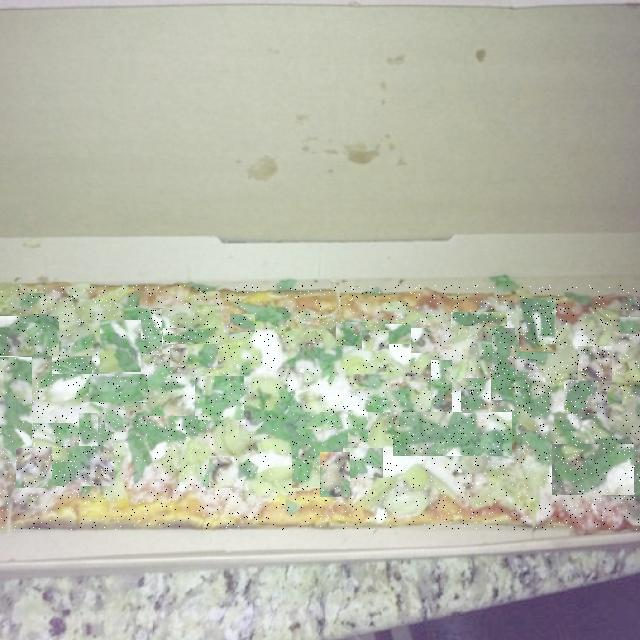Mushrooms: (16, 448, 52, 488), (320, 452, 350, 497), (578, 346, 612, 381), (210, 456, 236, 488), (411, 328, 440, 353), (164, 394, 185, 423), (362, 330, 389, 351), (444, 455, 464, 482), (170, 348, 188, 367), (517, 359, 536, 377)
Pizza: (0, 285, 640, 530)
Rucola: (394, 412, 514, 456), (33, 423, 114, 488), (552, 444, 634, 495), (247, 388, 318, 445), (0, 357, 32, 471), (0, 316, 59, 356), (196, 376, 246, 420), (100, 320, 141, 372), (520, 298, 558, 352), (123, 427, 153, 484), (492, 328, 515, 400), (89, 374, 148, 402), (513, 373, 552, 415), (235, 297, 290, 324), (282, 346, 346, 368), (292, 444, 322, 488), (136, 416, 198, 436), (343, 448, 383, 478), (138, 308, 162, 355), (564, 380, 597, 414), (431, 360, 452, 412), (461, 378, 491, 413), (317, 431, 352, 459), (163, 328, 219, 344), (186, 342, 218, 368), (451, 312, 507, 326), (336, 322, 367, 346), (305, 412, 348, 429), (52, 356, 92, 374), (122, 295, 146, 323), (348, 410, 368, 442), (79, 413, 98, 446), (19, 294, 46, 316), (566, 289, 595, 308), (385, 324, 411, 344), (353, 374, 386, 389), (391, 386, 417, 405), (106, 410, 128, 432), (230, 314, 255, 332), (620, 317, 640, 334), (366, 400, 390, 412), (607, 388, 622, 404)
